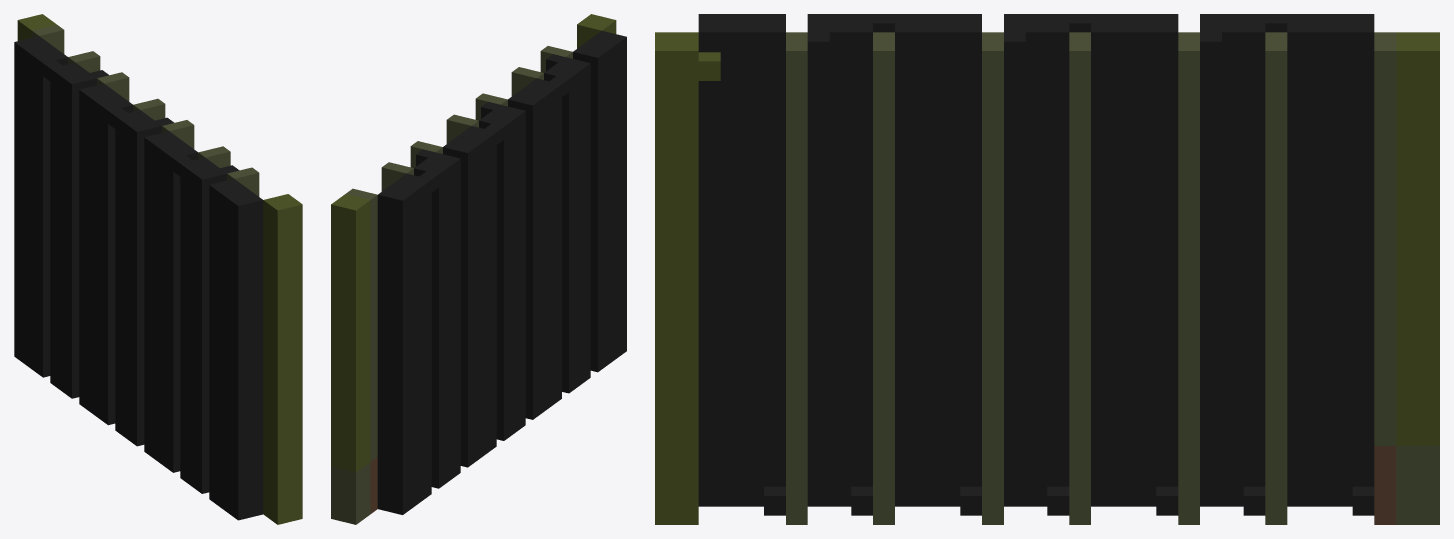
The model's file is abandoned_army_truck_grille.glb.
The picture shows the model from 3 angles, left to right: view 1: azimuth 30°, elevation 25°; view 2: azimuth 150°, elevation 25°; view 3: azimuth 270°, elevation 25°; orthographic projection. The views are drawn at different scales.
Visible parts, largest first — view 1: body:compound; view 2: body:compound; view 3: body:compound.
Part boxes in pixels (<box>): body:compound: <box>14,14,302,524</box>; body:compound: <box>331,14,626,524</box>; body:compound: <box>655,14,1439,524</box>.
Size of the model in its own units: 0.125 by 0.75 by 1.12.
